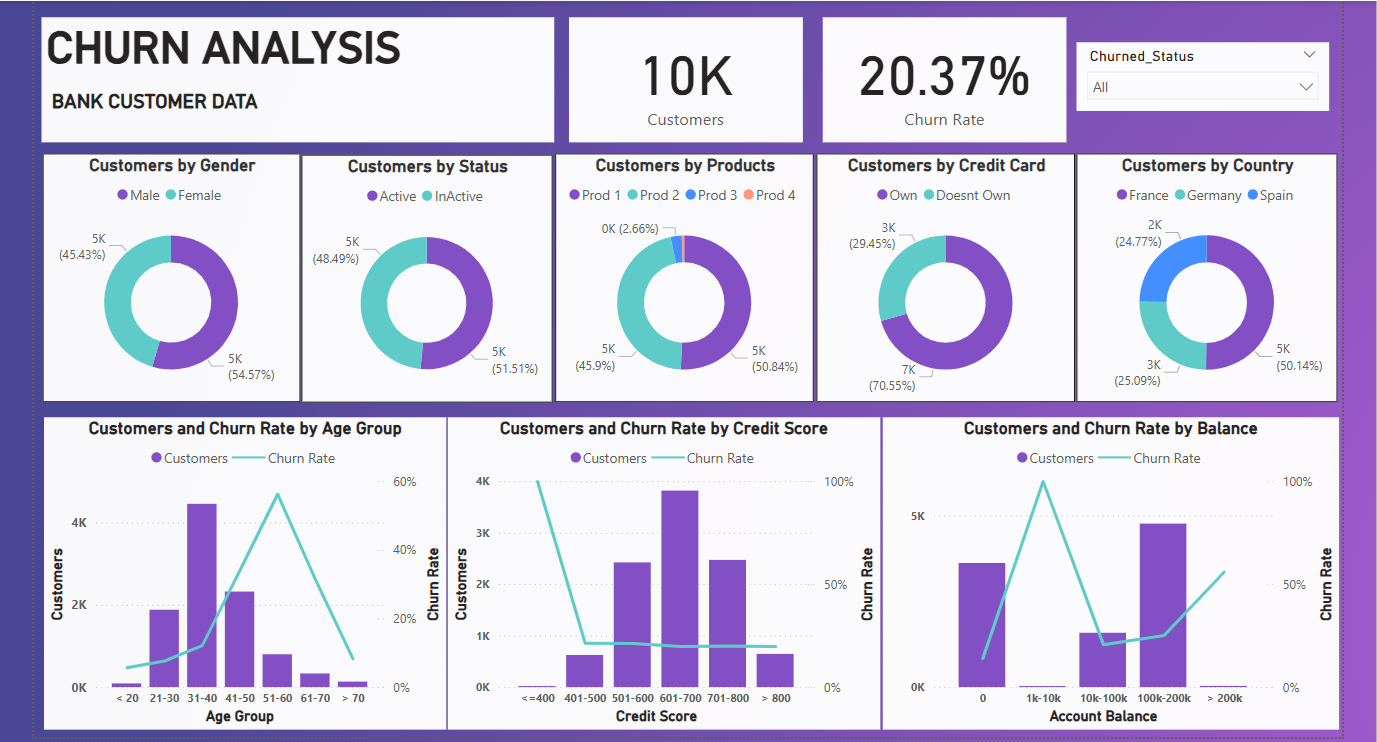

The page's visual inventory and layout, read from the dashboard file:
{"tool":"powerbi","page":{"name":"CHurn_Analysis","canvas":[1280,720],"ordinal":0},"visuals":[{"type":"card","fields":{"Values":["Bank_Churn.Customers"]},"box":[523.4,15.9,228.7,122.3],"z":0},{"type":"card","fields":{"Values":["Bank_Churn.Churn Rate"]},"box":[771.6,15.9,238.5,122.3],"z":1000},{"type":"donutChart","fields":{"Y":["Bank_Churn.Customers"],"Category":["Bank_Churn.Gender"]},"box":[8.6,149.2,251.9,243.3],"z":2000},{"type":"donutChart","fields":{"Y":["Bank_Churn.Customers"],"Category":["Bank_Churn.Status"]},"box":[261.7,150.4,245.8,242.1],"z":3000},{"type":"donutChart","fields":{"Y":["Bank_Churn.Customers"],"Category":["Bank_Churn.Products"]},"box":[509.9,149.2,253.1,243.3],"z":4000},{"type":"donutChart","title":"Customers by Credit Card","fields":{"Y":["Bank_Churn.Customers"],"Category":["Bank_Churn.Has_CreditCard"]},"box":[765.5,149.2,253.1,243.3],"z":5000},{"type":"donutChart","title":"Customers by Country","fields":{"Y":["Bank_Churn.Customers"],"Category":["Bank_Churn.Geography"]},"box":[1019.8,149.2,255.6,243.3],"z":6000},{"type":"lineClusteredColumnComboChart","title":"Customers and Churn Rate by Age Group","fields":{"Category":["Age_Bins.Age_Bins"],"Y":["Bank_Churn.Customers"],"Y2":["Bank_Churn.Churn Rate"]},"box":[9.8,407.2,393.8,305.7],"z":7000},{"type":"lineClusteredColumnComboChart","title":"Customers and Churn Rate by Credit Score","fields":{"Y":["Bank_Churn.Customers"],"Y2":["Bank_Churn.Churn Rate"],"Category":["Credit_Score_Groups.Credit_Score_Groups"]},"box":[404.8,407.2,423.1,305.7],"z":8000},{"type":"lineClusteredColumnComboChart","title":"Customers and Churn Rate by Balance","fields":{"Y":["Bank_Churn.Customers"],"Y2":["Bank_Churn.Churn Rate"],"Category":["Balance_Bins.Balance_Bins"]},"box":[830.3,407.2,446.3,305.7],"z":9000},{"type":"slicer","fields":{"Values":["Bank_Churn.Churned_Status"]},"box":[1019.8,40.4,247,67.3],"z":10000},{"type":"textbox","box":[7.3,15.9,501.4,122.3],"z":11000}]}

Visuals, with their boxes in screenshot pixels (x1, y1, x2, y2):
card - Bank_Churn.Customers: x1=564 y1=16 x2=797 y2=141
card - Bank_Churn.Churn Rate: x1=817 y1=16 x2=1059 y2=141
donutChart - Bank_Churn.Customers x Bank_Churn.Gender: x1=41 y1=152 x2=297 y2=399
donutChart - Bank_Churn.Customers x Bank_Churn.Status: x1=298 y1=153 x2=548 y2=399
donutChart - Bank_Churn.Customers x Bank_Churn.Products: x1=551 y1=152 x2=808 y2=399
"Customers by Credit Card" donutChart: x1=811 y1=152 x2=1068 y2=399
"Customers by Country" donutChart: x1=1069 y1=152 x2=1329 y2=399
"Customers and Churn Rate by Age Group" lineClusteredColumnComboChart: x1=42 y1=414 x2=443 y2=725
"Customers and Churn Rate by Credit Score" lineClusteredColumnComboChart: x1=444 y1=414 x2=874 y2=725
"Customers and Churn Rate by Balance" lineClusteredColumnComboChart: x1=876 y1=414 x2=1330 y2=725
slicer - Bank_Churn.Churned_Status: x1=1069 y1=41 x2=1320 y2=109
textbox: x1=40 y1=16 x2=549 y2=141
